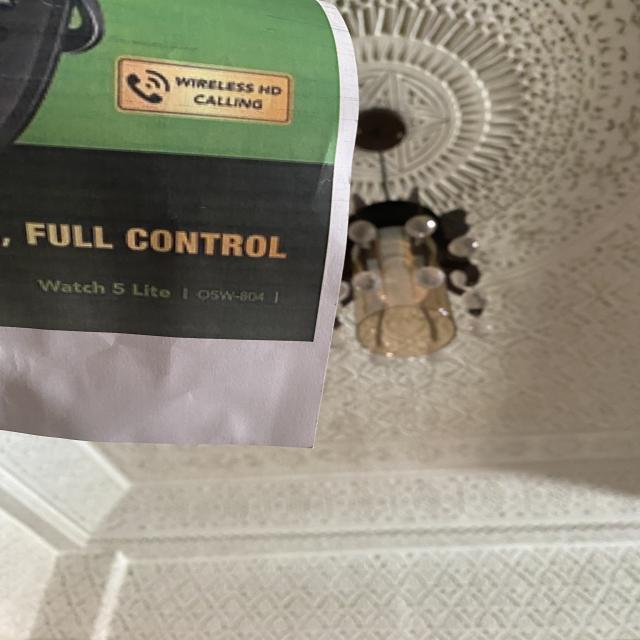Watch 5 Lite OSW-804: (30, 265, 290, 309)
